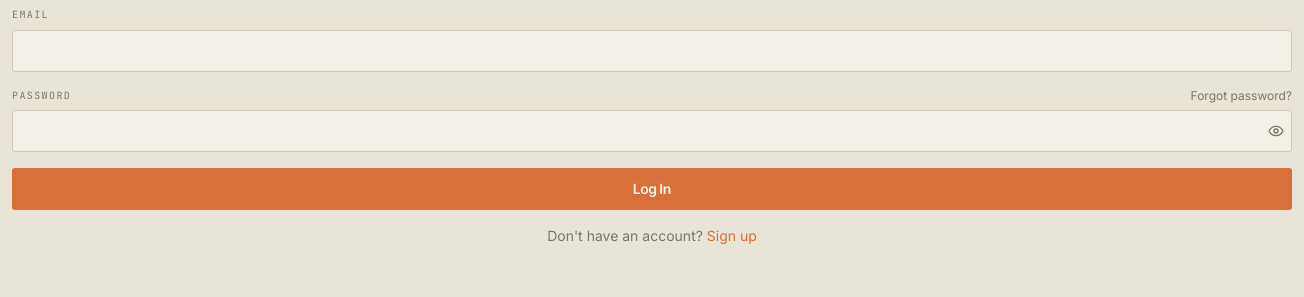
Scenario: LoginForm › shows an error on invalid credentials (7b.3)
Type "user@example.com" into the field labelled "Email" at (652, 51), box [12,30,1292,72]
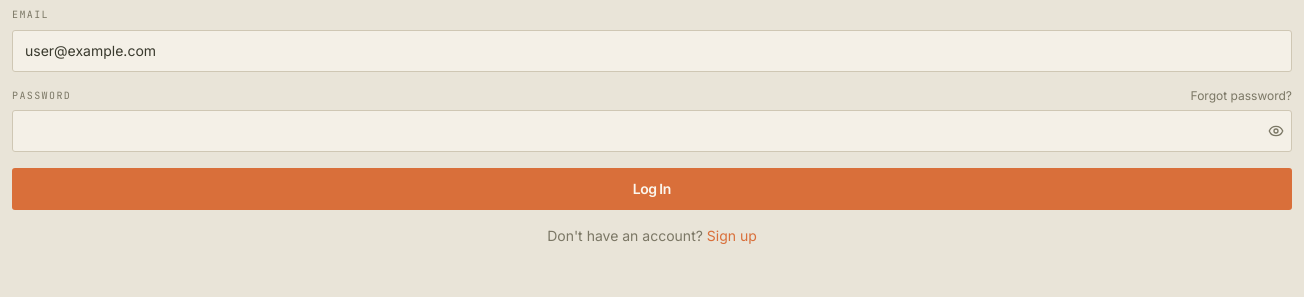
Type "wrongpass" into the password field labelled "Password" at (652, 131), box [12,110,1292,152]
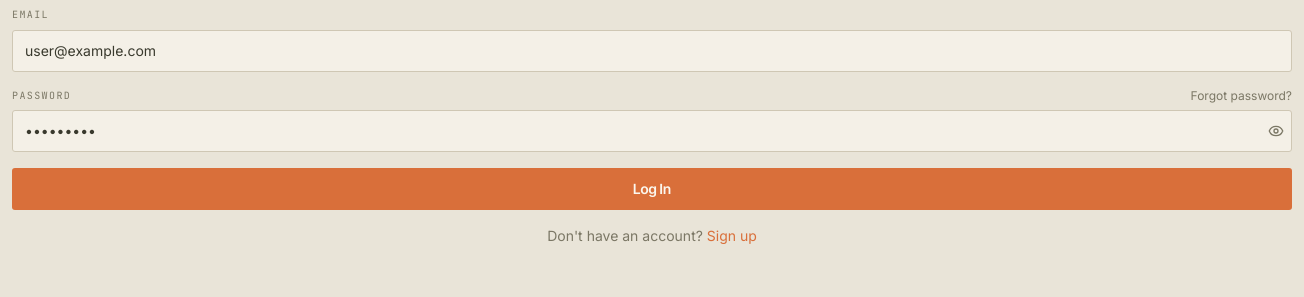
Click the button "Log In" at (652, 189), box [12,168,1292,210]
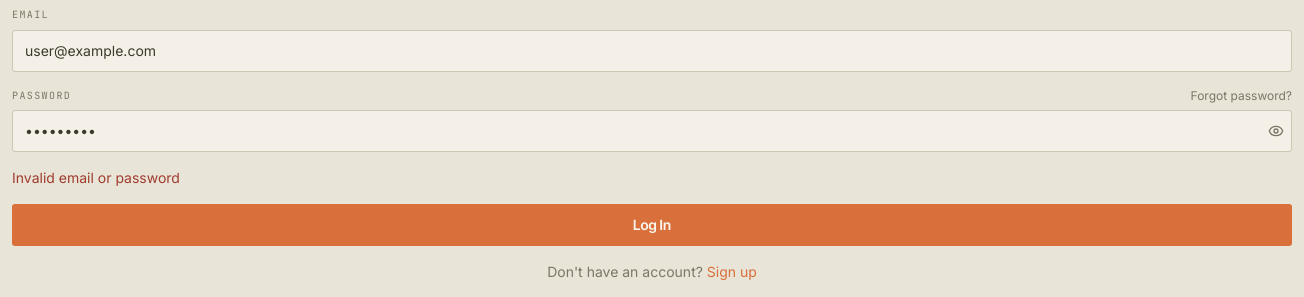
Check: the text "Invalid email or password" is shown, box [12,169,180,186]
